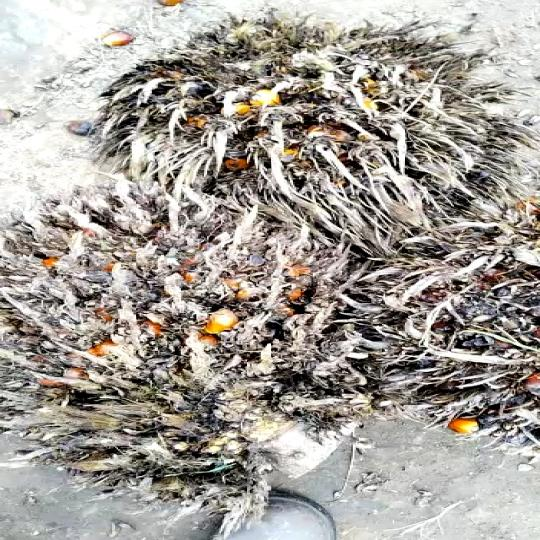terlalu masak: (0, 183, 407, 505), (92, 18, 518, 246)
